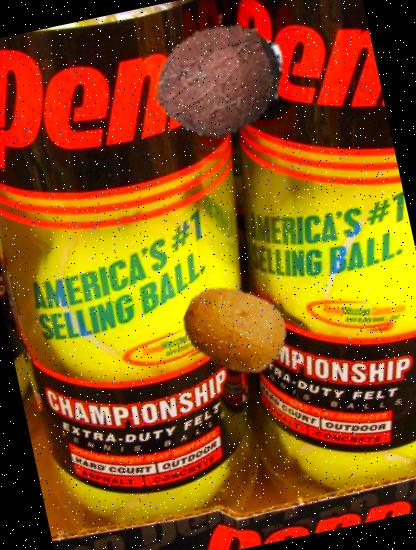Cocos: (136, 0, 302, 163)
Kiwi: (172, 268, 298, 394)
